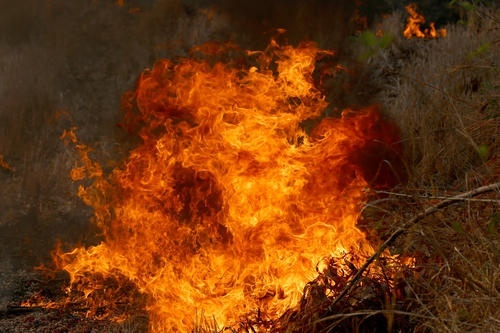fire: (28, 35, 407, 329), (400, 3, 447, 38)
